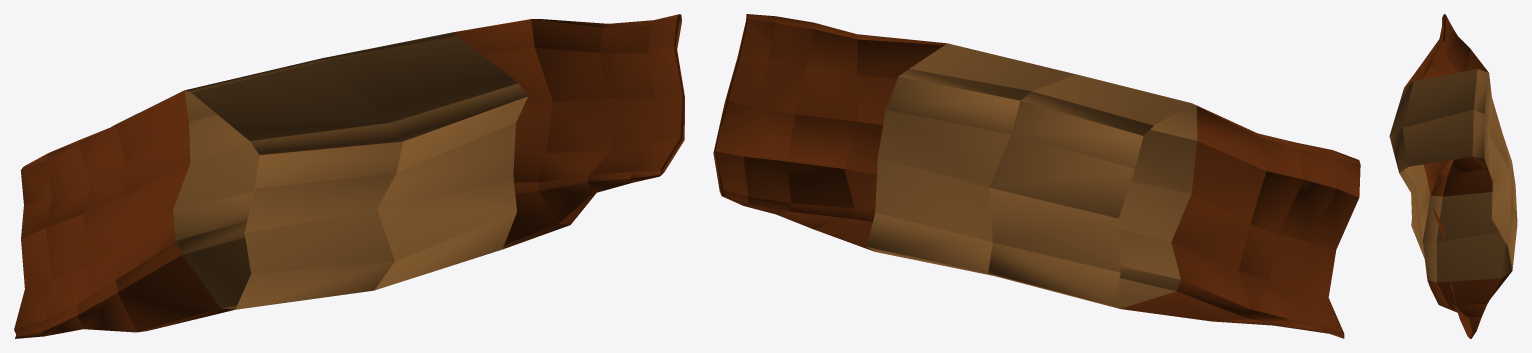
Rendered from Soda Cracker.fbx.
3 views of the same model, side by side, from view 1: azimuth 30°, elevation 25°; view 2: azimuth 150°, elevation 25°; view 3: azimuth 270°, elevation 25° (orthographic). The views are drawn at different scales.
Visible parts, largest first — view 1: Node 0; view 2: Node 0; view 3: Node 0.
Part boxes in pixels (x1=…): Node 0: x1=14, y1=14, x2=684, y2=338; Node 0: x1=713, y1=14, x2=1360, y2=338; Node 0: x1=1389, y1=14, x2=1517, y2=338.
Bounding box in the file's own units: 0.0433 × 0.0496 × 0.1698.
